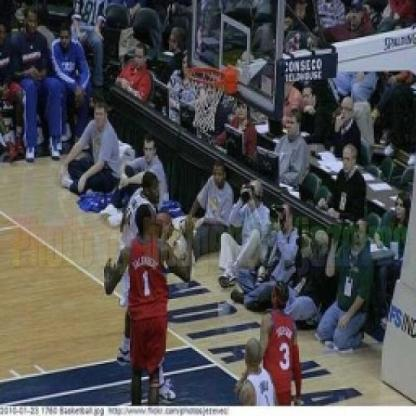basketball: (150, 211, 176, 238)
